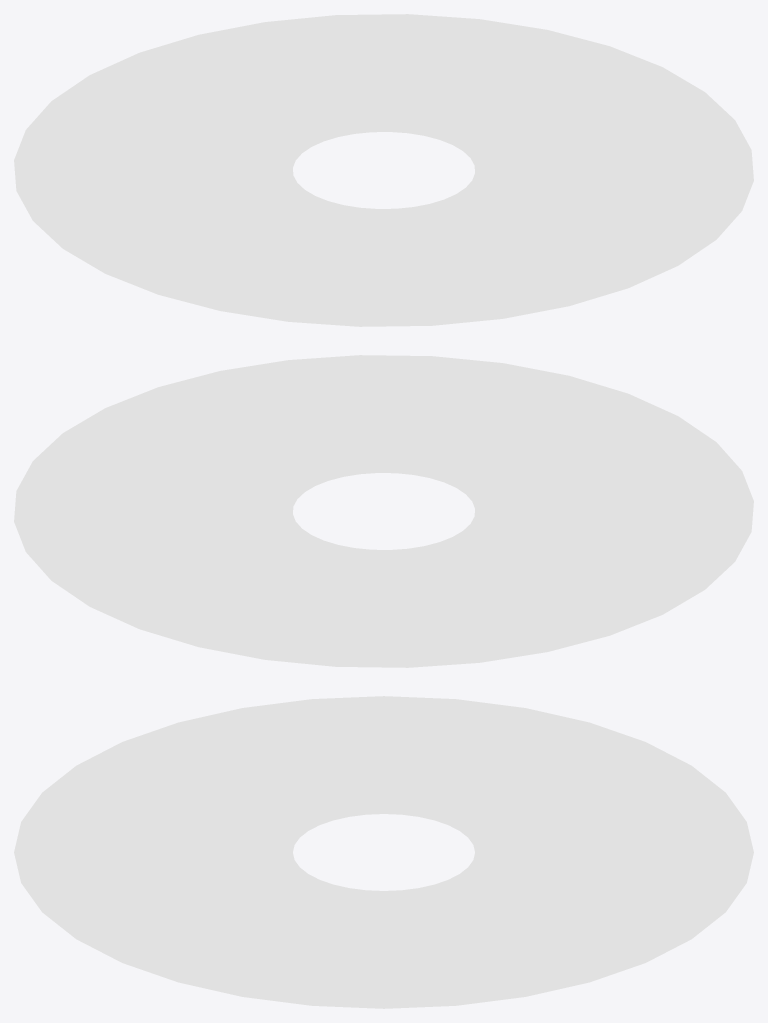
File: ChandelierSlam_Variant.fbx
3 views of the same model, one above another, from view 1: azimuth 30°, elevation 25°; view 2: azimuth 150°, elevation 25°; view 3: azimuth 270°, elevation 25° (orthographic).
Visible parts, largest first — view 1: ripple; view 2: ripple; view 3: ripple.
Boxes of the visible parts, x1=… form: ripple: x1=14, y1=14, x2=753, y2=326; ripple: x1=14, y1=355, x2=753, y2=667; ripple: x1=14, y1=696, x2=753, y2=1008.
Bounding box in the file's own units: 0.609 × 0 × 0.609.
